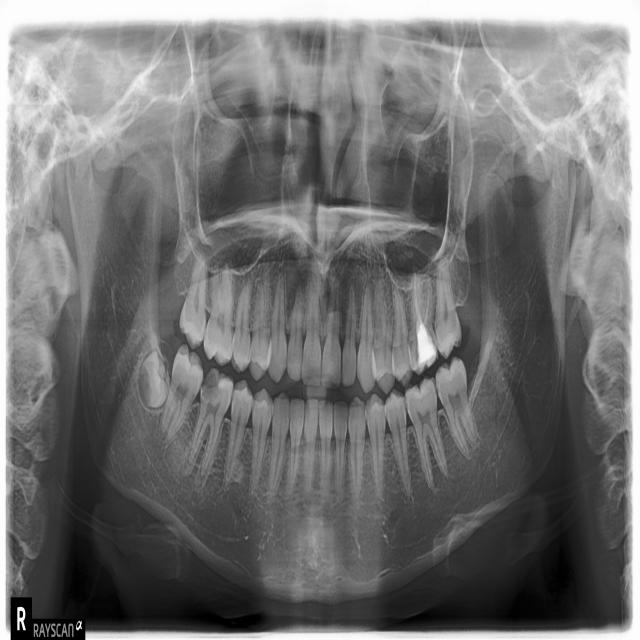mandibula: (66, 119, 579, 598)
